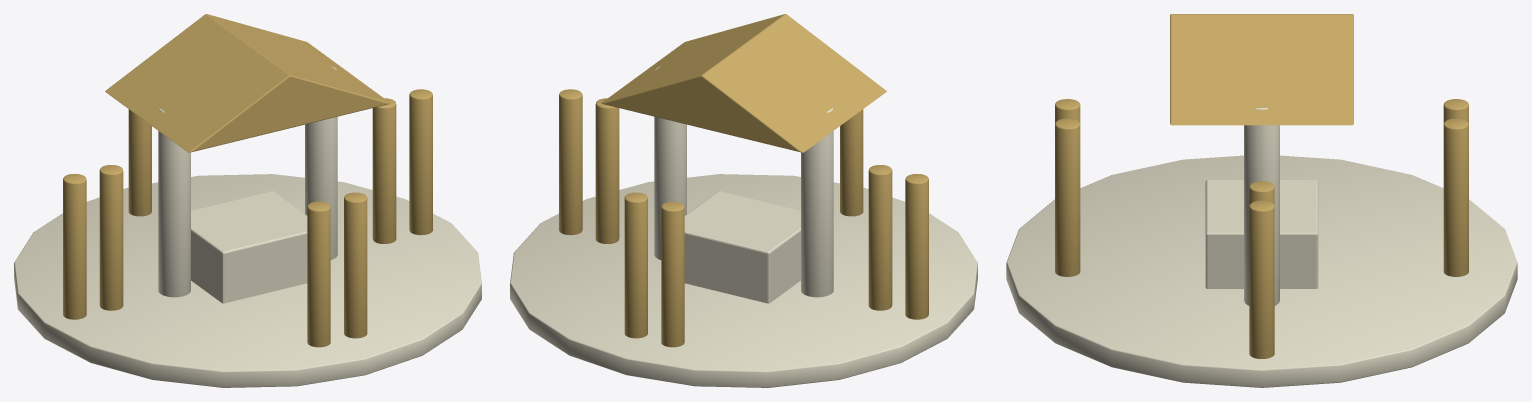
File: landmark-celestial.glb
The picture shows the model from 3 angles, left to right: view 1: azimuth 30°, elevation 25°; view 2: azimuth 150°, elevation 25°; view 3: azimuth 270°, elevation 25°; orthographic projection. The views are drawn at different scales.
Parts seen in each view (by area): view 1: Geometry_Trim, Geometry_Gold; view 2: Geometry_Trim, Geometry_Gold; view 3: Geometry_Trim, Geometry_Gold.
Boxes of the visible parts, <box> form: Geometry_Trim: <box>14,66,481,387</box>; Geometry_Gold: <box>63,14,432,347</box>; Geometry_Trim: <box>510,66,977,387</box>; Geometry_Gold: <box>559,14,928,347</box>; Geometry_Trim: <box>1006,108,1517,387</box>; Geometry_Gold: <box>1055,14,1468,358</box>.
Bounding box in the file's own units: 10 × 5.74 × 10.
